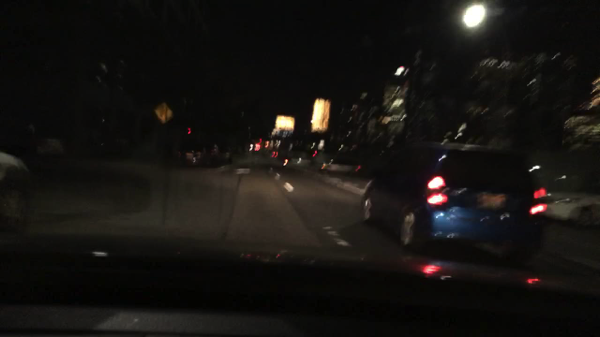car: (359, 140, 547, 265), (535, 169, 598, 228), (0, 150, 32, 248), (176, 142, 231, 169), (322, 148, 362, 175), (286, 149, 310, 166)
traffic sign: (154, 103, 173, 122)
